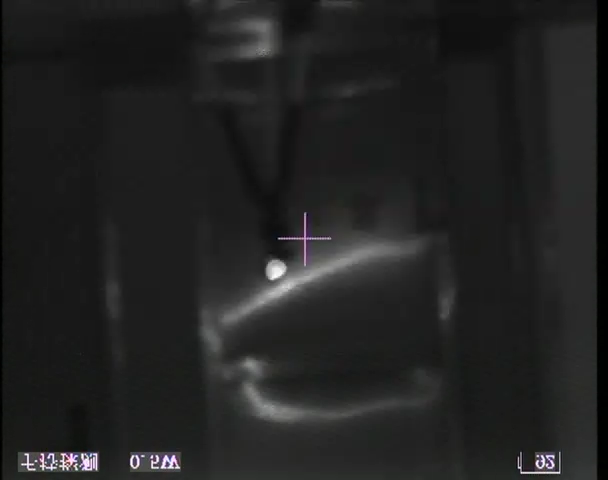my: (263, 256, 288, 283)
